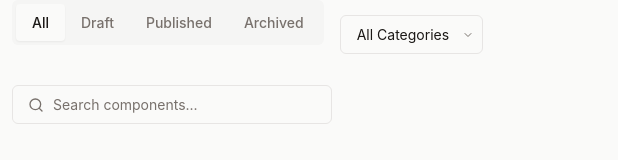
it: ComponentFilters › Clear Filters › clears search input when clear filters is clicked
This screenshot has width=618, height=160.
Type "test" into the field with placeholder "Search components..." at (172, 104), box [12,85,332,124]
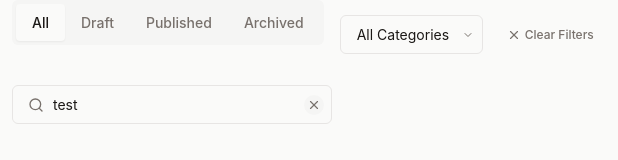
Click the button "Clear Filters" at (550, 34), box [499,24,602,46]
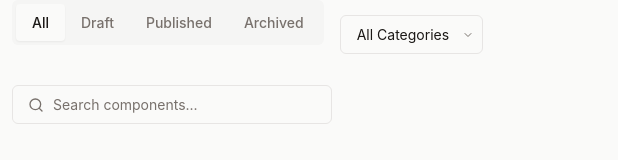
Result: the field with placeholder "Search components..." is empty at [12,85,332,124]
